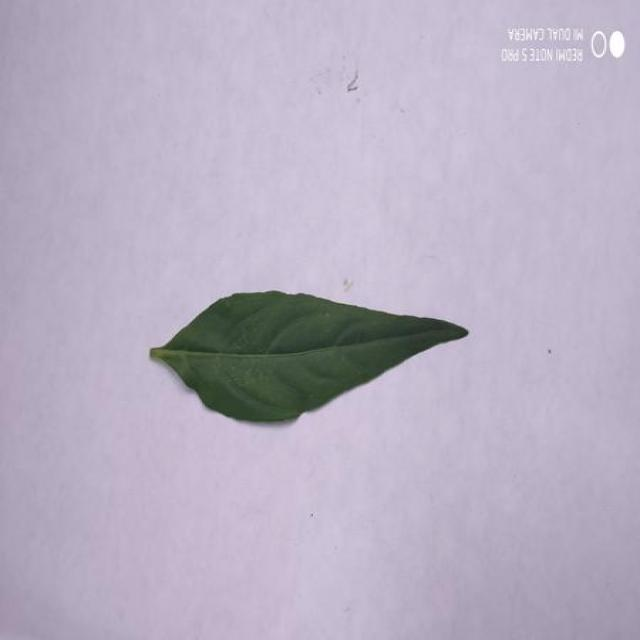Nelavembu: (150, 292, 468, 422)
